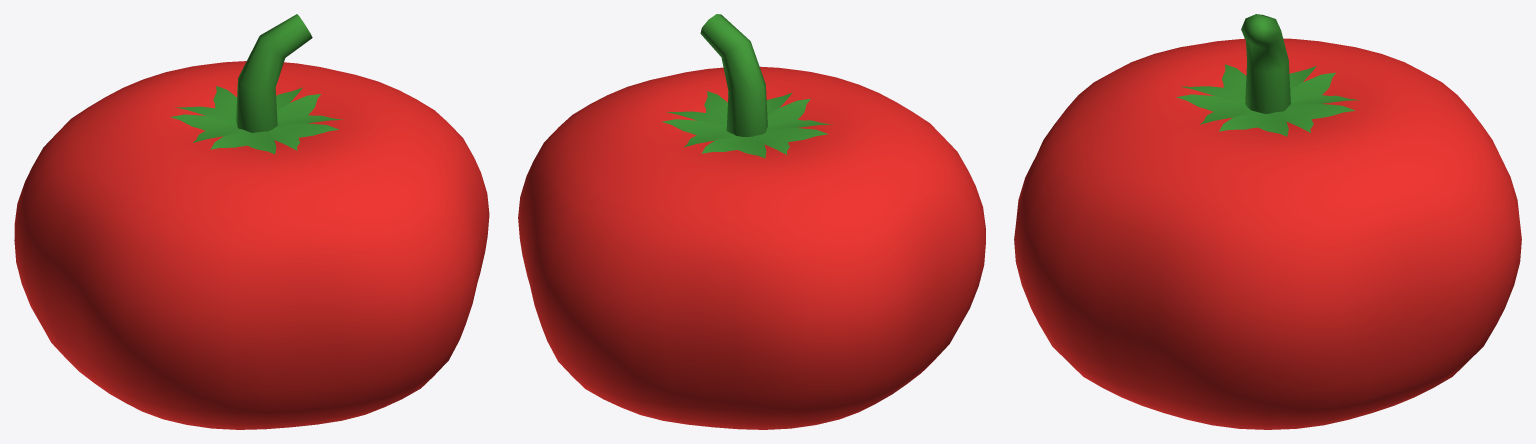
The model's file is VeggieTomato.obj.
3 views of the same model, side by side, from view 1: azimuth 30°, elevation 25°; view 2: azimuth 150°, elevation 25°; view 3: azimuth 270°, elevation 25° (orthographic). The views are drawn at different scales.
Parts seen in each view (by area): view 1: TomatoBody, TomatoLeaves; view 2: TomatoBody, TomatoLeaves; view 3: TomatoBody, TomatoLeaves.
Part boxes in pixels (x1=…): TomatoBody: x1=14, y1=61, x2=489, y2=429; TomatoLeaves: x1=170, y1=14, x2=343, y2=154; TomatoBody: x1=518, y1=66, x2=985, y2=429; TomatoLeaves: x1=661, y1=14, x2=832, y2=158; TomatoBody: x1=1014, y1=38, x2=1521, y2=429; TomatoLeaves: x1=1176, y1=14, x2=1359, y2=136.
Size of the model in its own units: 2.11 by 1.76 by 2.15.
